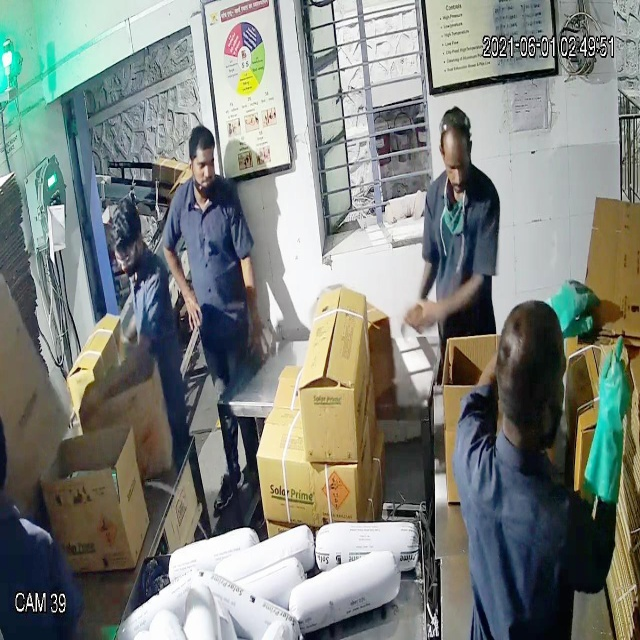Gafas: (113, 241, 142, 274)
Sin_gafas: (438, 153, 474, 184)
